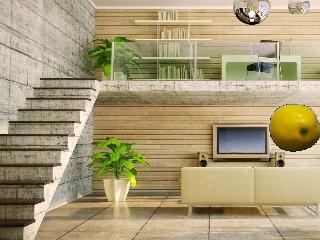lemon: (270, 104, 320, 152)
